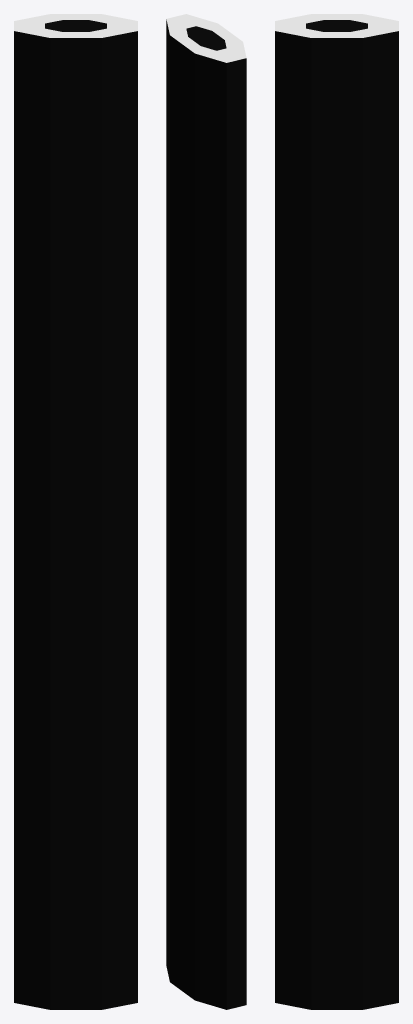
The model's file is pencil05.obj.
3 renders of one model, left to right at view 1: azimuth 90°, elevation 25°; view 2: azimuth 210°, elevation 25°; view 3: azimuth 270°, elevation 25°, orthographic. The views are drawn at different scales.
Parts seen in each view (by area): view 1: Cylinder_Cylinder.003; view 2: Cylinder_Cylinder.003; view 3: Cylinder_Cylinder.003.
Boxes of the visible parts, x1=… form: Cylinder_Cylinder.003: x1=14, y1=14, x2=137, y2=1009; Cylinder_Cylinder.003: x1=166, y1=14, x2=246, y2=1009; Cylinder_Cylinder.003: x1=275, y1=14, x2=398, y2=1009.
Bounding box in the file's own units: 0.00656 × 0.1233 × 0.0142.
Materials: 1 (1 with a texture image).
